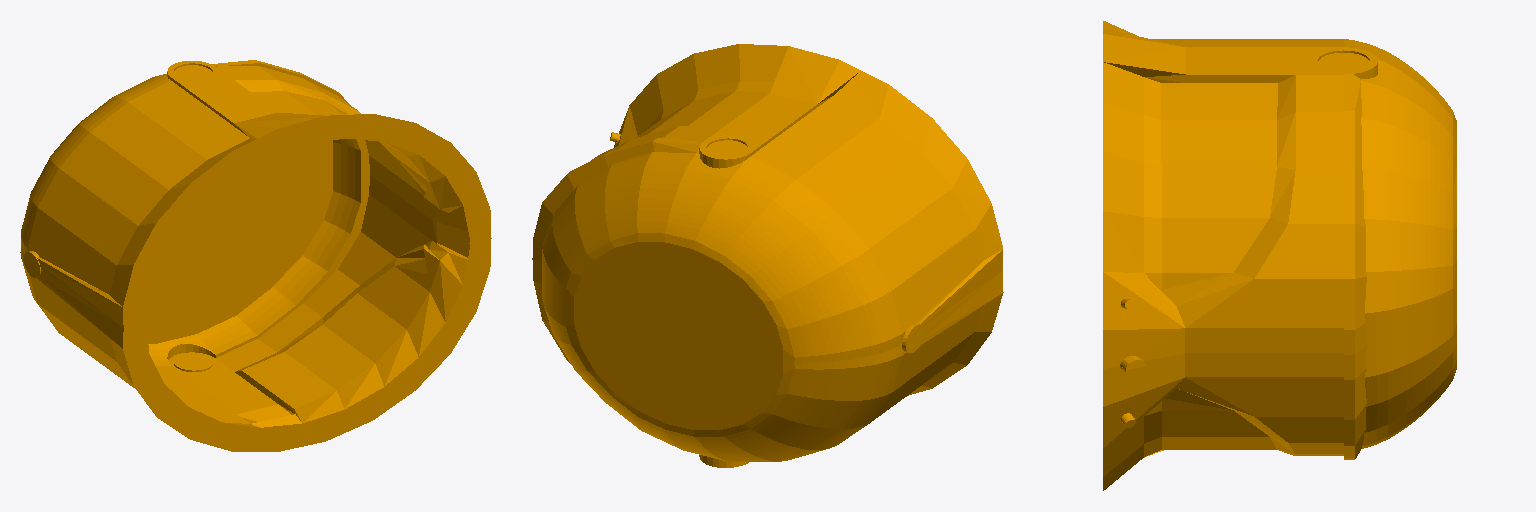
URDF robot description (jaco):
<?xml version="1.0" ?>
<!-- =================================================================================== -->
<!-- |    This document was autogenerated by xacro from jaco_standalone.urdf.xacro     | -->
<!-- |    EDITING THIS FILE BY HAND IS NOT RECOMMENDED                                 | -->
<!-- =================================================================================== -->
<!--
Software License Agreement (BSD)
\file      vector.urdf.xacro
\authors   [author]
\copyright Copyright (c) 2015, Stanley Innovation, Inc., All rights reserved.
Redistribution and use in source and binary forms, with or without modification, are permitted provided that
the following conditions are met:
 * Redistributions of source code must retain the above copyright notice, this list of conditions and the
   following disclaimer.
 * Redistributions in binary form must reproduce the above copyright notice, this list of conditions and the
   following disclaimer in the documentation and/or other materials provided with the distribution.
 * Neither the name of Stanley Innovation nor the names of its contributors may be used to endorse or promote
   products derived from this software without specific prior written permission.
THIS SOFTWARE IS PROVIDED BY THE COPYRIGHT [author] "AS IS" AND ANY EXPRESS OR IMPLIED WAR-
RANTIES, INCLUDING, BUT NOT LIMITED TO, THE IMPLIED WARRANTIES OF MERCHANTABILITY AND FITNESS FOR A PARTICULAR
PURPOSE ARE DISCLAIMED. IN NO EVENT SHALL THE COPYRIGHT [author] LIABLE FOR ANY DIRECT, IN-
DIRECT, INCIDENTAL, SPECIAL, EXEMPLARY, OR CONSEQUENTIAL DAMAGES (INCLUDING, BUT NOT LIMITED TO, PROCUREMENT
OF SUBSTITUTE GOODS OR SERVICES; LOSS OF USE, DATA, OR PROFITS; OR BUSINESS INTERRUPTION) HOWEVER CAUSED AND
ON ANY THEORY OF LIABILITY, WHETHER IN CONTRACT, STRICT LIABILITY, OR TORT (INCLUDING NEGLIGENCE OR OTHERWISE)
ARISING IN ANY WAY OUT OF THE USE OF THIS SOFTWARE, EVEN IF ADVISED OF THE POSSIBILITY OF SUCH DAMAGE.
-->

<robot name="jaco" xmlns:xacro="http://ros.org/wiki/xacro">
  <link name="robotiq_85_base_link">
    <contact>
     <lateral_friction value="1.0"/>
     <rolling_friction value="0.0"/>
     <inertia_scaling value="1.0"/>
     <contact_cfm value="0.0"/>
     <contact_erp value="1.0"/>
  </contact>

    <collision>
      <geometry>
        <mesh filename="../objfiles/cup.obj"/>
      </geometry>
    </collision>

      <visual>
         <origin rpy="0 0 0" xyz="0 0 0"/>
         <geometry>
            <mesh filename="../objfiles/cup.obj"/>
         </geometry>
      </visual>

    <inertial>
      <mass value="1"/>
      <origin xyz="0.0 0.0 0.0"/>
      <inertia ixx="0.000380" ixy="0.000000" ixz="0.000000" iyx="0.000000" iyy="0.001110" iyz="0.000000" izx="0.000000" izy="0.000000" izz="0.001171"/>
    </inertial>

  </link>
</robot>

--- What the picture shows (computed from the rendered views, not written in the file) ---
Views: 3 orthographic renders of the robot side by side, from view 1: azimuth 30°, elevation 25°; view 2: azimuth 150°, elevation 25°; view 3: azimuth 270°, elevation 25°.
Robot: jaco — 1 links, 0 joints (none); root link robotiq_85_base_link; default pose: every joint at zero.
Visible links, largest first — view 1: robotiq_85_base_link; view 2: robotiq_85_base_link; view 3: robotiq_85_base_link.
Boxes of the visible links, <box> form: robotiq_85_base_link: <box>20,60,491,451</box>; robotiq_85_base_link: <box>532,44,1003,467</box>; robotiq_85_base_link: <box>1103,21,1456,490</box>.
Size in the robot's own frame: 0.6874 by 0.4466 by 0.5727 metres.
1 mesh visuals loaded from 1 distinct referenced files (1 OBJ).